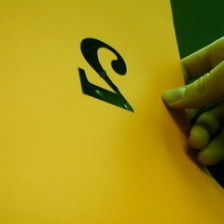orange2: (69, 32, 139, 119)
